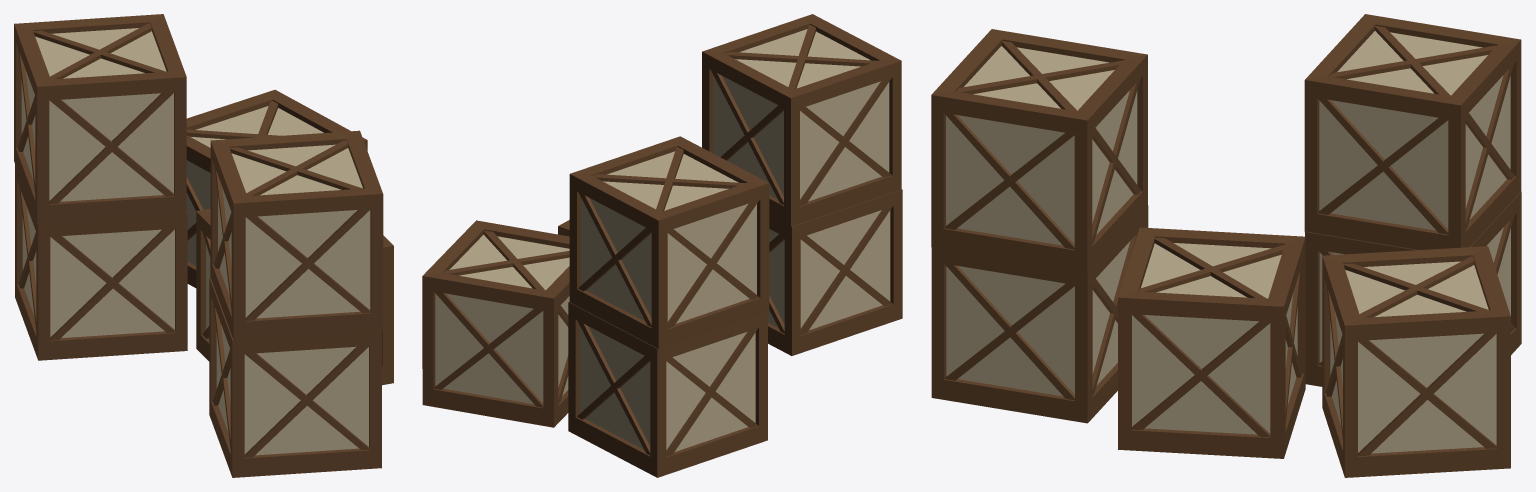
File: Wooden_Boxes__001.fbx
The picture shows the model from 3 angles, left to right: view 1: azimuth 30°, elevation 25°; view 2: azimuth 150°, elevation 25°; view 3: azimuth 270°, elevation 25°; orthographic projection. The views are drawn at different scales.
Parts seen in each view (by area): view 1: Wooden box-5; view 2: Wooden box-5; view 3: Wooden box-5.
Boxes of the visible parts, x1=… form: Wooden box-5: x1=14, y1=14, x2=393, y2=477; Wooden box-5: x1=422, y1=14, x2=902, y2=477; Wooden box-5: x1=931, y1=14, x2=1521, y2=477.
Bounding box in the file's own units: 2.58 × 2.11 × 3.72.
